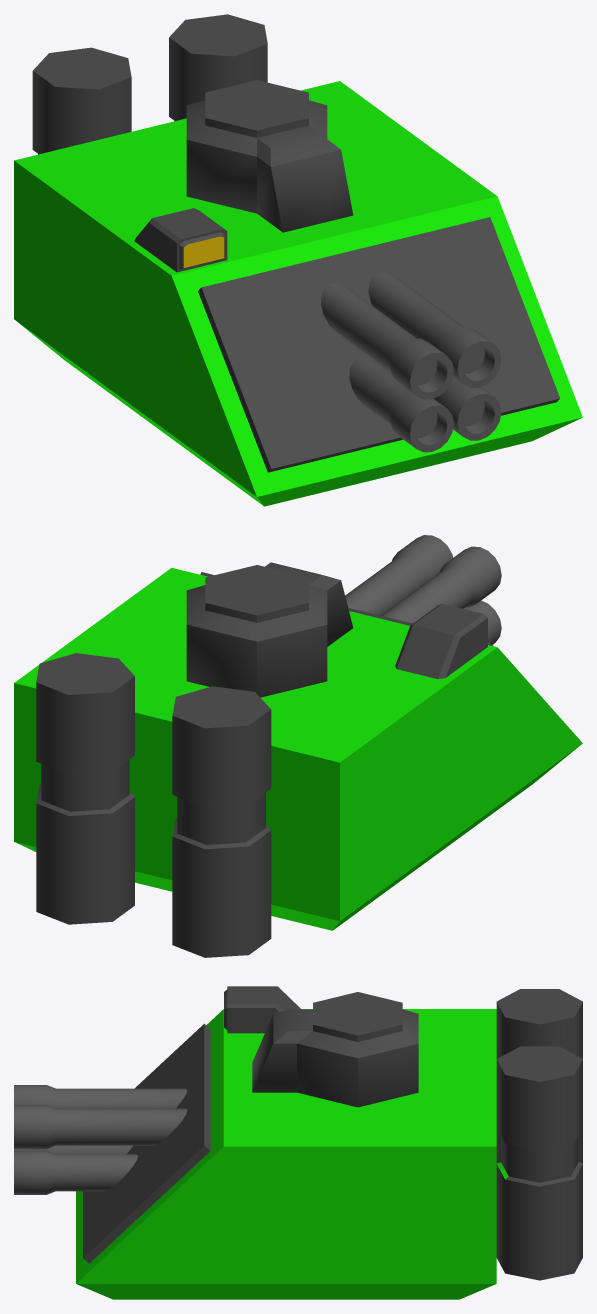
The model's file is TankTurret4.fbx.
3 views of the same model, one above another, from view 1: azimuth 30°, elevation 25°; view 2: azimuth 150°, elevation 25°; view 3: azimuth 270°, elevation 25° (orthographic). The views are drawn at different scales.
Parts seen in each view (by area): view 1: Double_Turret, Cylinder.004; view 2: Double_Turret, Cylinder.004; view 3: Double_Turret, Cylinder.004.
Boxes of the visible parts, x1,y1,x2,y2 form: Double_Turret: (14,14,582,506); Cylinder.004: (321,271,501,452); Double_Turret: (14,562,582,957); Cylinder.004: (345,535,501,644); Double_Turret: (76,986,582,1299); Cylinder.004: (14,1085,187,1194).
Size of the model in its own units: 158 by 276 by 130.
